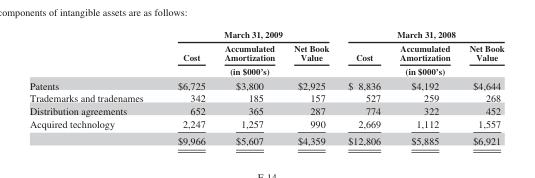table: (28, 28, 503, 146)
table column: (28, 28, 159, 146), (389, 28, 459, 146), (214, 28, 283, 146), (159, 28, 214, 146), (283, 28, 337, 146), (337, 28, 389, 146), (459, 28, 503, 146)
table column header: (28, 28, 503, 77)
table row: (28, 40, 503, 77), (28, 116, 503, 132), (28, 77, 503, 91), (28, 132, 503, 146), (28, 91, 503, 104), (28, 28, 503, 40), (28, 104, 503, 116)
table spanning cell: (159, 28, 337, 40), (337, 28, 503, 40)
